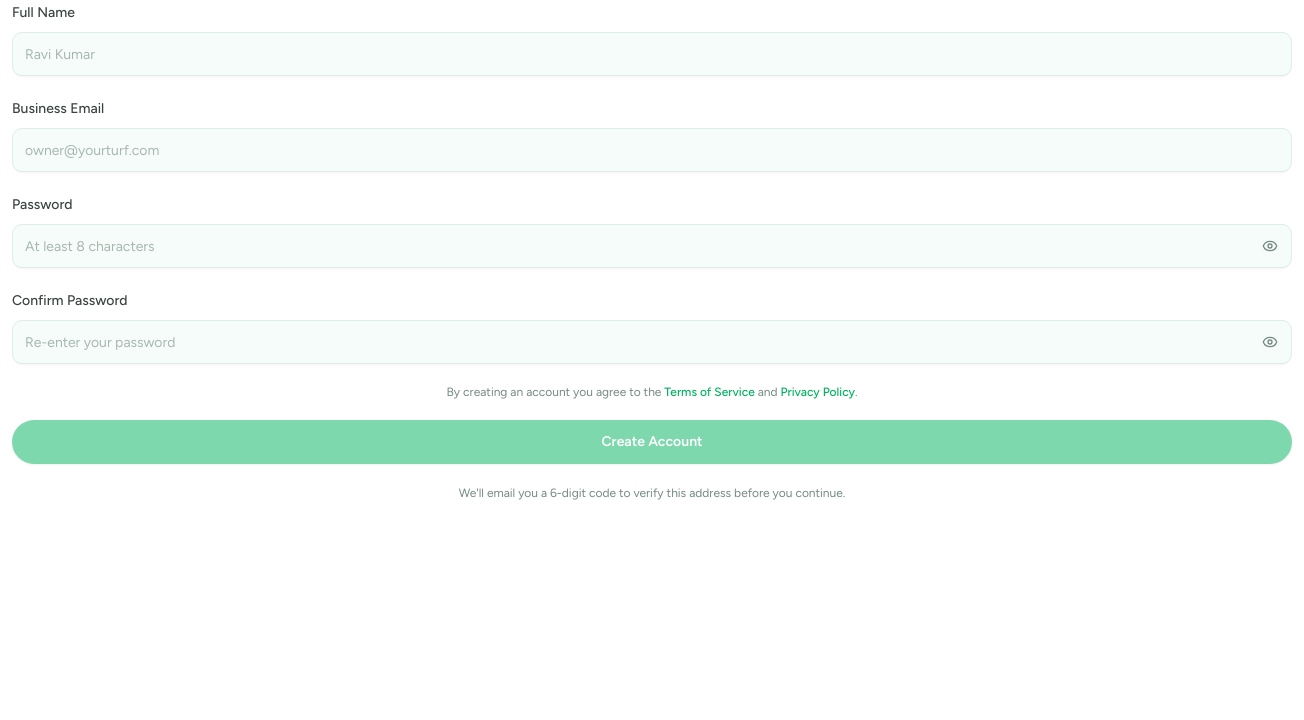
Test: SignupForm › reports an empty name on blur
Click the field labelled "Full Name": (652, 54) [12, 32, 1292, 76]
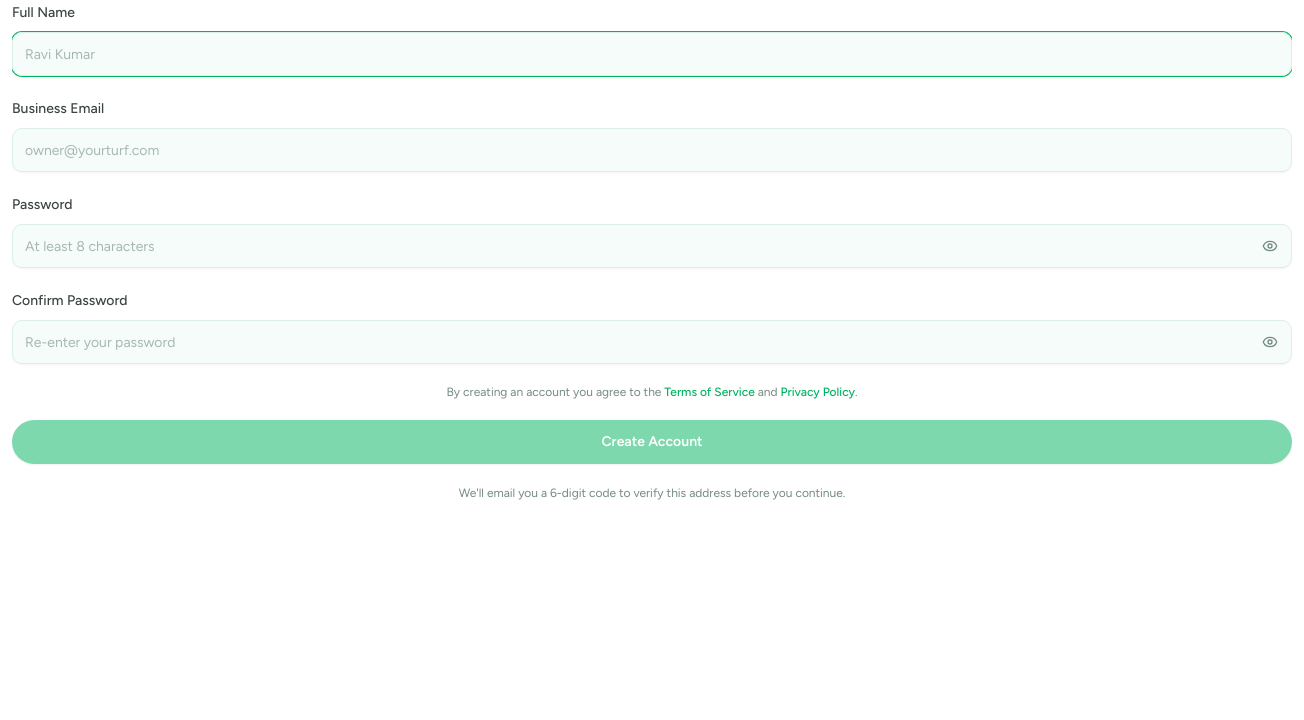
Press Tab
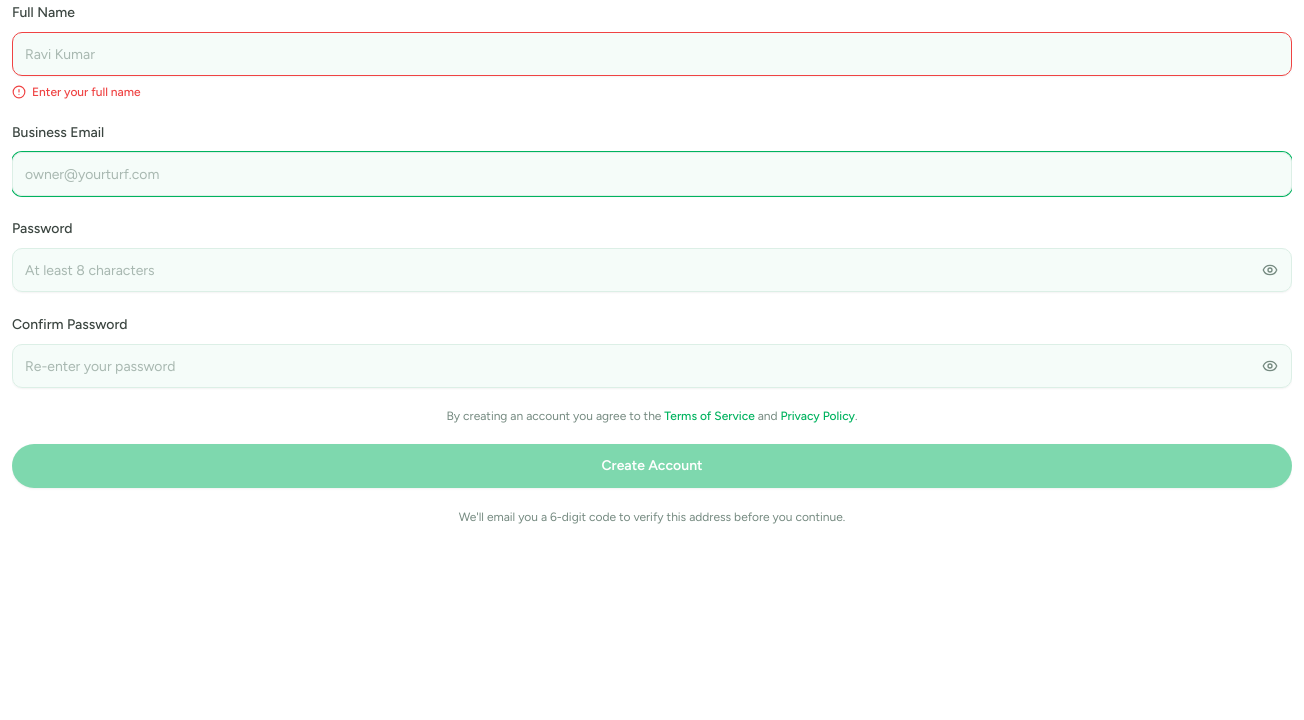
Now the text "Enter your full name" is shown, box [32, 84, 141, 100]
